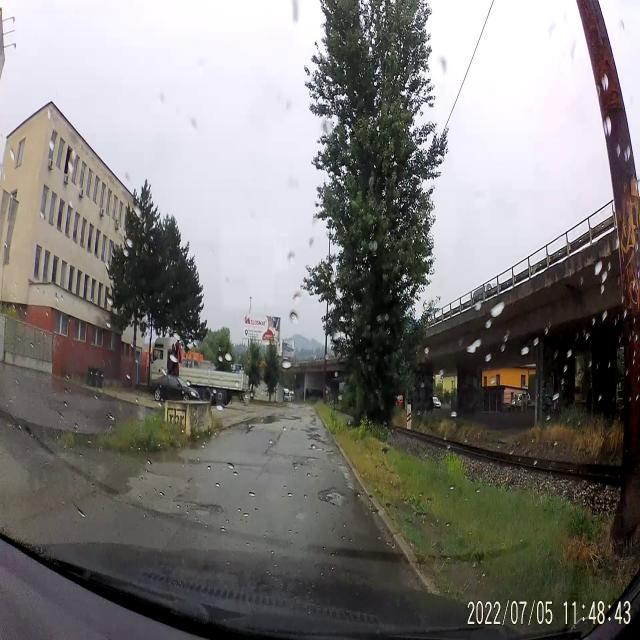Pothole: (187, 494, 227, 524), (317, 486, 349, 510), (289, 452, 317, 477)
